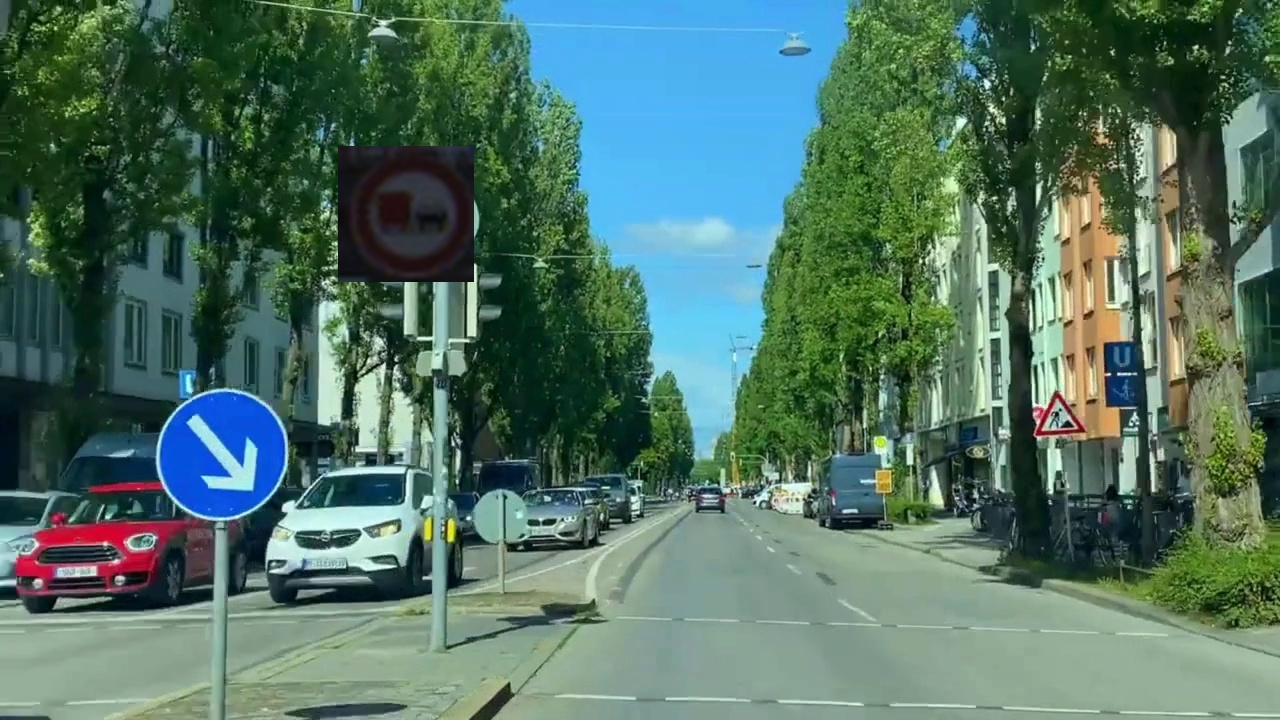No pass >3.5t: (338, 146, 474, 282)
